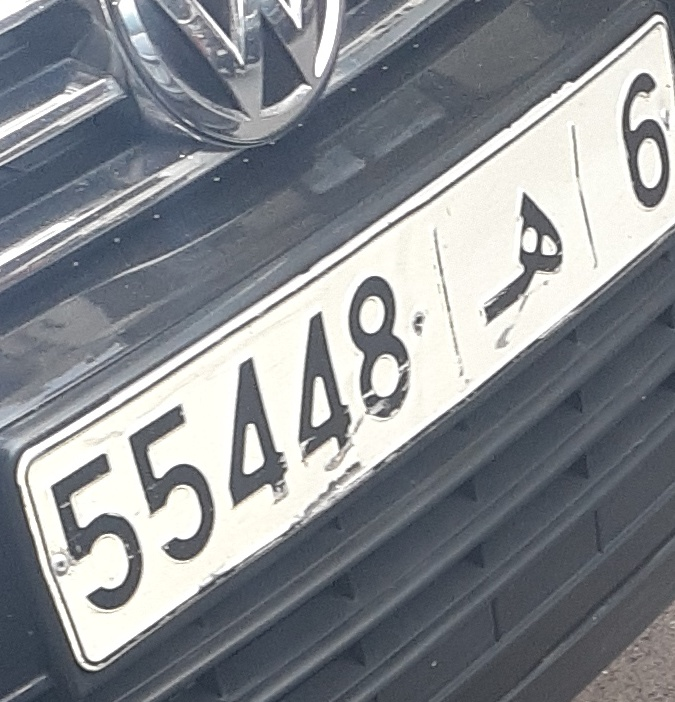4: (213, 352, 298, 512), (289, 309, 359, 459)
5: (47, 454, 150, 616), (121, 402, 220, 564)
6: (614, 67, 674, 216)
8: (343, 274, 418, 424)
h: (478, 191, 568, 326)
